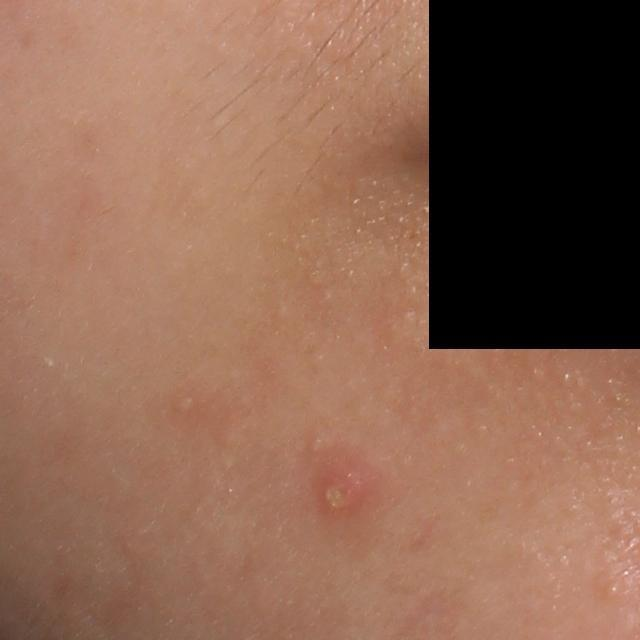comedo: (602, 579, 624, 602)
pustule: (313, 460, 372, 524)
